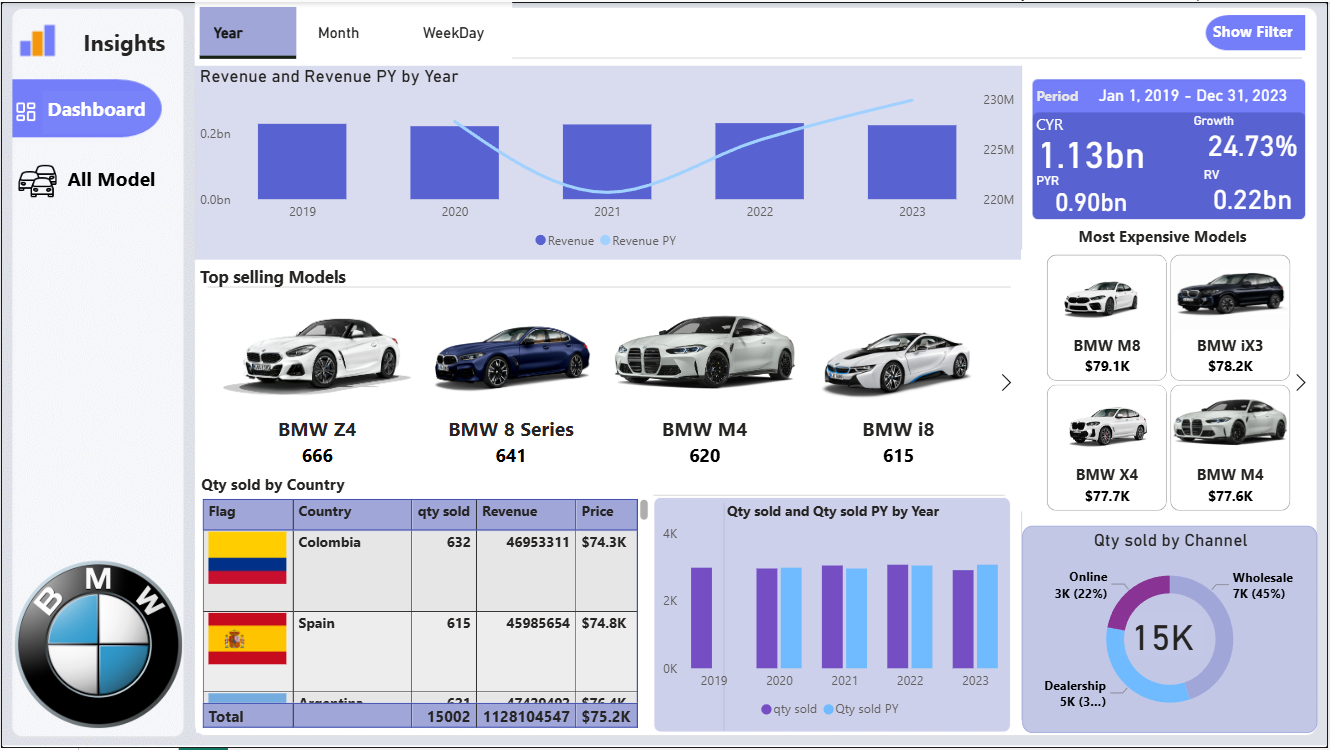

This screenshot's page, from the dashboard's own definition file:
{"tool":"powerbi","page":{"name":"Dashboard","canvas":[1280,720],"ordinal":0},"visuals":[{"type":"lineStackedColumnComboChart","fields":{"Category":["Calendar.Year"],"Y":["All_Measure.Revenue"],"Y2":["All_Measure.Revenue PY"]},"box":[187.5,55,797.5,193.8],"z":0},{"type":"advancedSlicerVisual","fields":{"Values":["Parameter.Parameter"]},"box":[186.9,7.1,303.6,47.6],"z":1000},{"type":"card","title":"CYR","fields":{"Values":["All_Measure.Revenue"]},"box":[994,107.1,116.7,58.3],"z":2000},{"type":"card","title":"PYR","fields":{"Values":["All_Measure.Revenue PY"]},"box":[994,165.5,116.7,45.2],"z":3000},{"type":"card","title":"RV","fields":{"Values":["All_Measure.Revenue variance"]},"box":[1156,159.5,104.8,51.2],"z":4000},{"type":"card","title":"       Growth","fields":{"Values":["All_Measure.Revenue Growth"]},"box":[1146.4,107.1,123.8,51.2],"z":5000},{"type":"card","fields":{"Values":["All_Measure.Selected calendar"]},"box":[1041.7,76.2,219,31],"z":6000},{"type":"textbox","box":[994,76.2,108.3,31],"z":7000},{"type":"advancedSlicerVisual","fields":{"Values":["BMW_Sales_DimModel.Model"]},"box":[187.7,275.3,797.5,179],"z":8000},{"type":"advancedSlicerVisual","fields":{"Values":["BMW_Sales_DimModel.Model"]},"box":[985,238.8,285,252.5],"z":9000},{"type":"textbox","box":[993.8,211.2,253.8,37.5],"z":11000},{"type":"clusteredColumnChart","title":"Qty sold and Qty sold PY by Year","fields":{"Category":["Calendar.Year"],"Y":["All_Measure.qty sold","All_Measure.Qty sold PY"]},"box":[630,477.5,345,227.5],"z":12000},{"type":"donutChart","title":"Qty sold by Channel","fields":{"Category":["BMW_Sales_DimChannel.Channel"],"Y":["All_Measure.qty sold"]},"box":[985.2,504.9,285.2,200],"z":13000},{"type":"card","fields":{"Values":["All_Measure.qty sold"]},"box":[1080,591.2,82.5,40],"z":14000},{"type":"tableEx","title":"Qty sold by Country","fields":{"Values":["BMW_Sales_DimCountry.Flag","BMW_Sales_DimCountry.Country","All_Measure.qty sold","All_Measure.Revenue","All_Measure.Ave Price Formatting"]},"box":[187.7,454.3,442,250.6],"z":15000},{"type":"textbox","box":[40,86.2,121.2,41.2],"z":16000},{"type":"image","box":[8.8,76.2,31.2,60],"z":17000},{"type":"image","box":[12.5,150,46.2,46.2],"z":18000},{"type":"textbox","box":[58.8,153.8,121.2,41.2],"z":19000},{"type":"actionButton","box":[8.8,150,162.5,50],"z":20000},{"type":"actionButton","box":[876.2,61.2,45,41.2],"z":21000},{"type":"shape","box":[1168.8,11.2,78.8,35],"z":23000},{"type":"image","box":[8.8,520,171.2,200],"z":24000},{"type":"image","box":[12.5,11.2,46.2,50],"z":25000},{"type":"textbox","box":[57.5,18.8,122.5,42.5],"z":26000},{"type":"textbox","box":[187.5,248.8,192.5,35],"z":26500}]}

Visuals, with their boxes on the page's 1280x720 design canvas (x1, y1, x2, y2). These are canvas units, not pixel positions in the 1330x750 screenshot, which may show the page scaled, cropped or inside an application window:
lineStackedColumnComboChart - Calendar.Year x All_Measure.Revenue: bbox(188, 55, 985, 249)
advancedSlicerVisual - Parameter.Parameter: bbox(187, 7, 490, 55)
"CYR" card: bbox(994, 107, 1111, 165)
"PYR" card: bbox(994, 166, 1111, 211)
"RV" card: bbox(1156, 160, 1261, 211)
"       Growth" card: bbox(1146, 107, 1270, 158)
card - All_Measure.Selected calendar: bbox(1042, 76, 1261, 107)
textbox: bbox(994, 76, 1102, 107)
advancedSlicerVisual - BMW_Sales_DimModel.Model: bbox(188, 275, 985, 454)
advancedSlicerVisual - BMW_Sales_DimModel.Model: bbox(985, 239, 1270, 491)
textbox: bbox(994, 211, 1248, 249)
"Qty sold and Qty sold PY by Year" clusteredColumnChart: bbox(630, 478, 975, 705)
"Qty sold by Channel" donutChart: bbox(985, 505, 1270, 705)
card - All_Measure.qty sold: bbox(1080, 591, 1162, 631)
"Qty sold by Country" tableEx: bbox(188, 454, 630, 705)
textbox: bbox(40, 86, 161, 127)
image: bbox(9, 76, 40, 136)
image: bbox(12, 150, 59, 196)
textbox: bbox(59, 154, 180, 195)
actionButton: bbox(9, 150, 171, 200)
actionButton: bbox(876, 61, 921, 102)
shape: bbox(1169, 11, 1248, 46)
image: bbox(9, 520, 180, 720)
image: bbox(12, 11, 59, 61)
textbox: bbox(58, 19, 180, 61)
textbox: bbox(188, 249, 380, 284)
